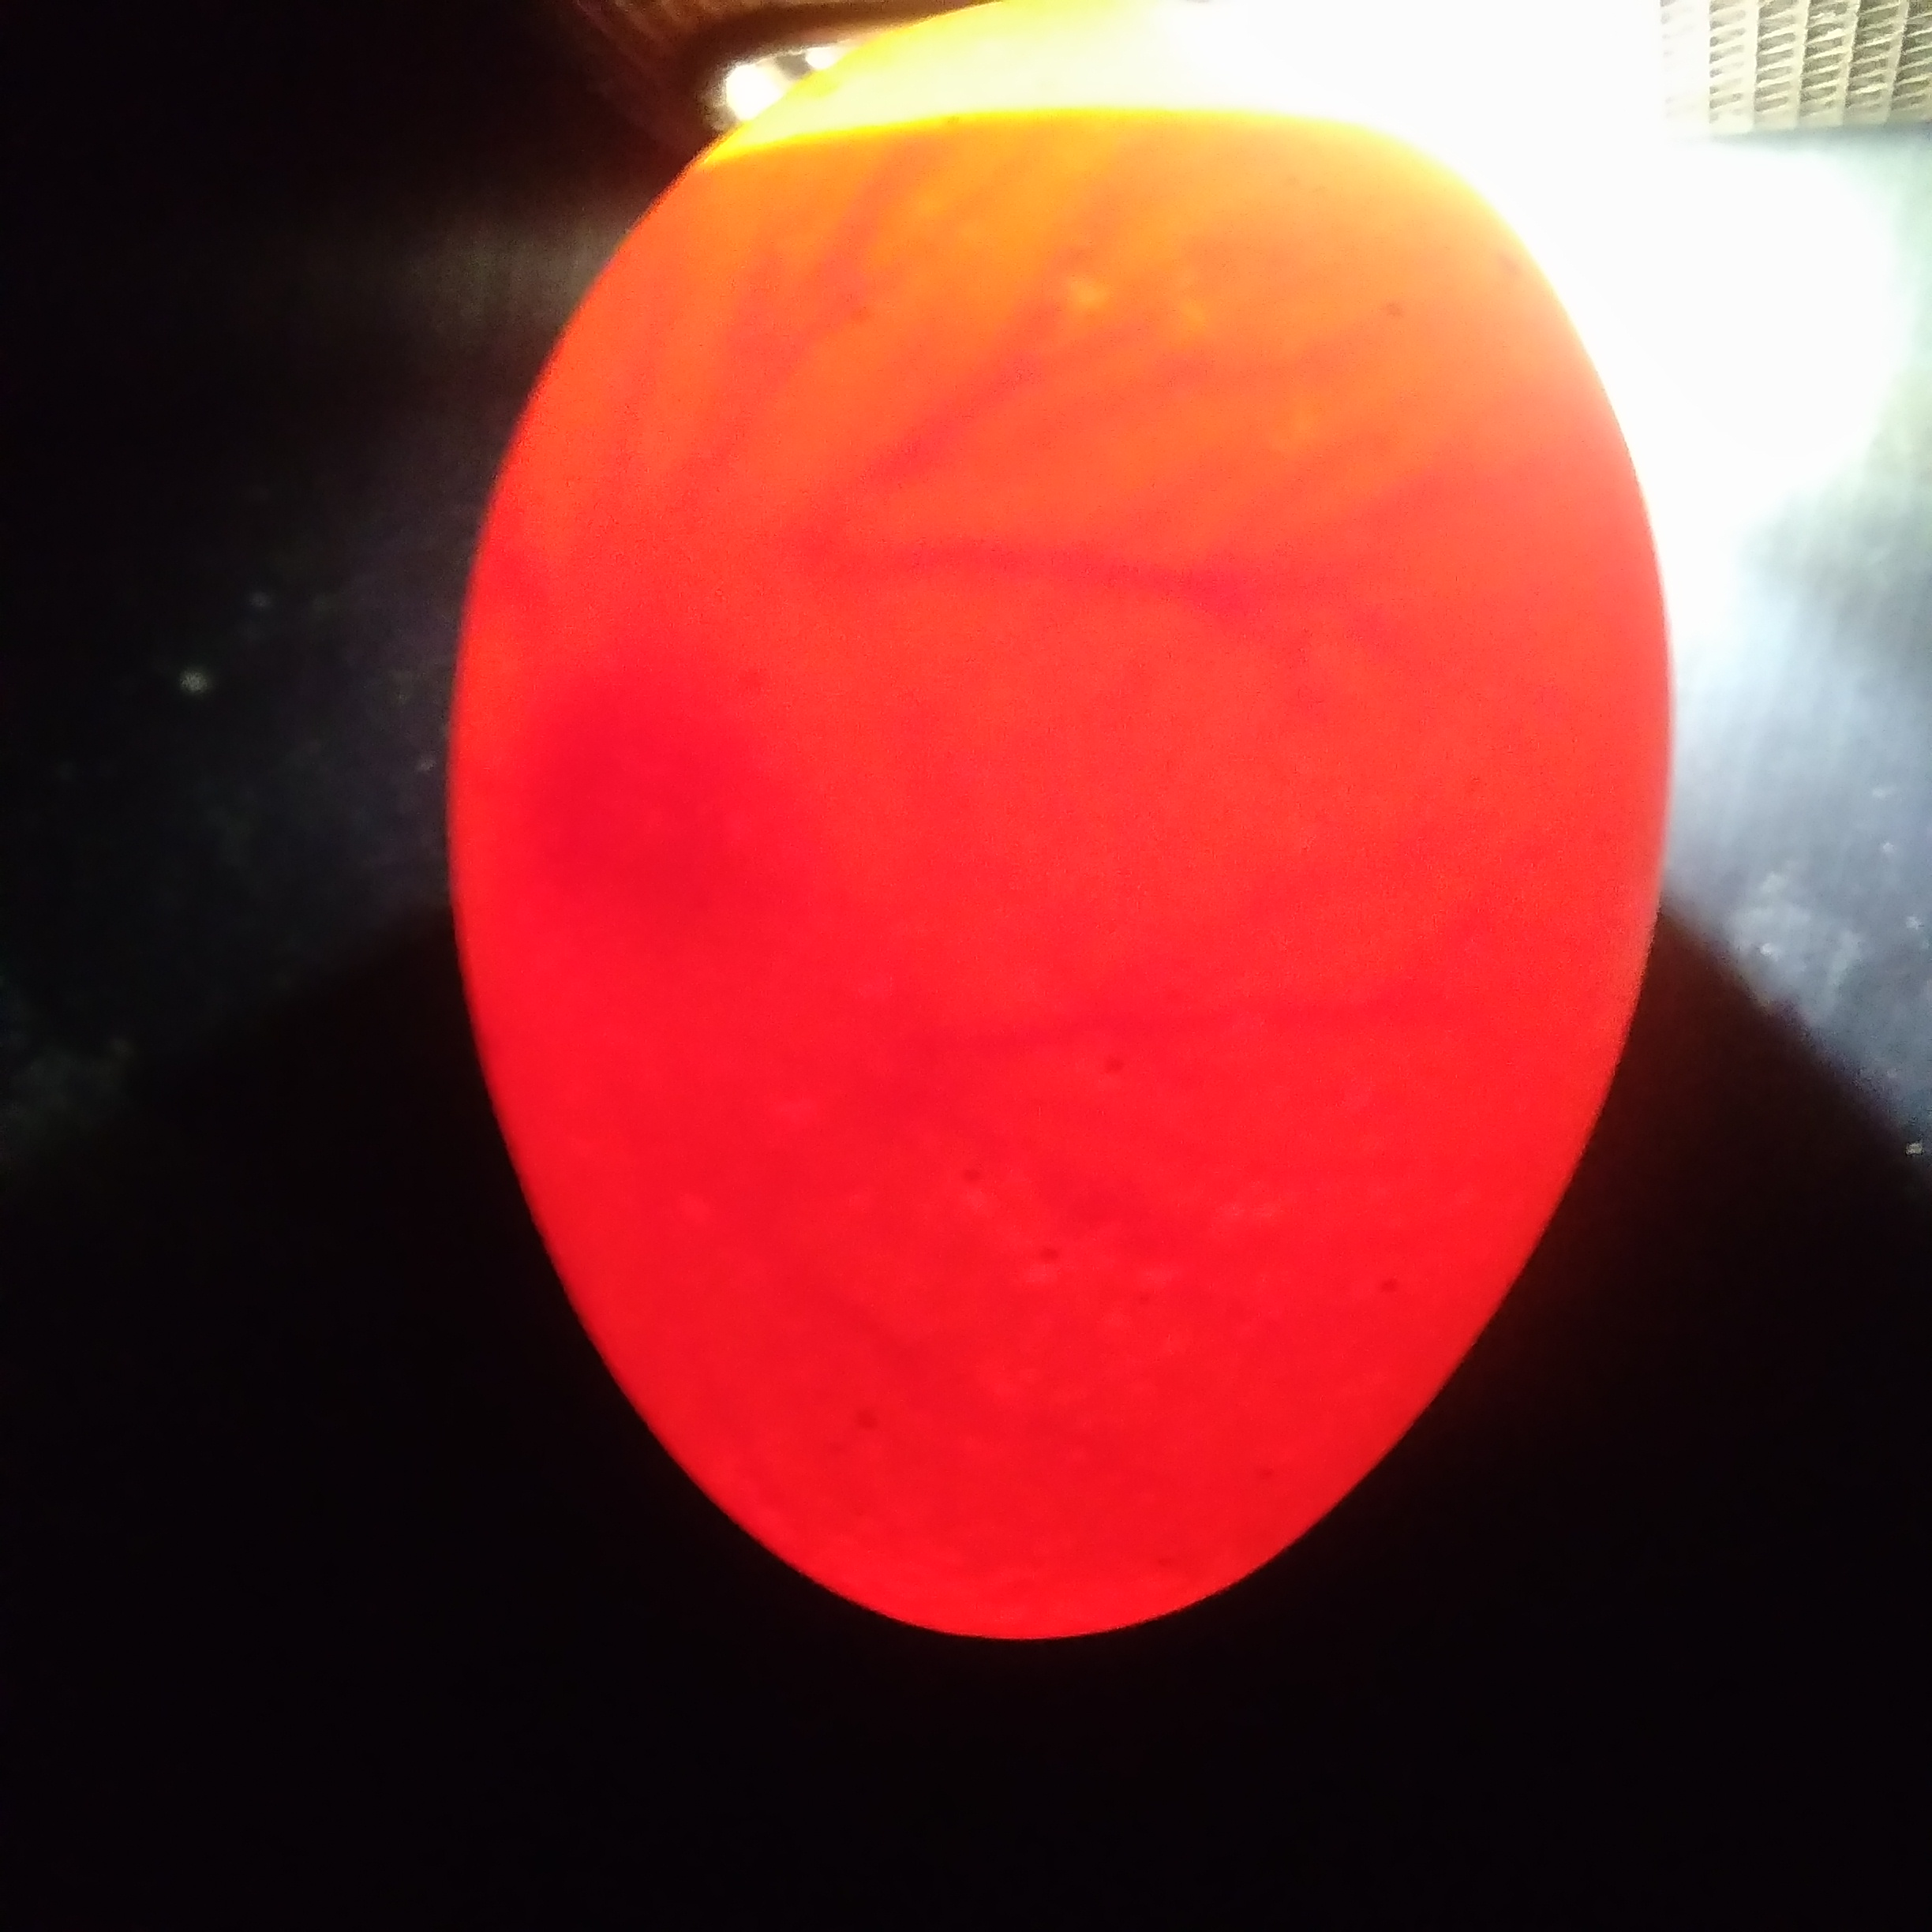bloodcell: (697, 170, 1449, 640), (596, 982, 1265, 1392)
embryo: (538, 715, 764, 934)
